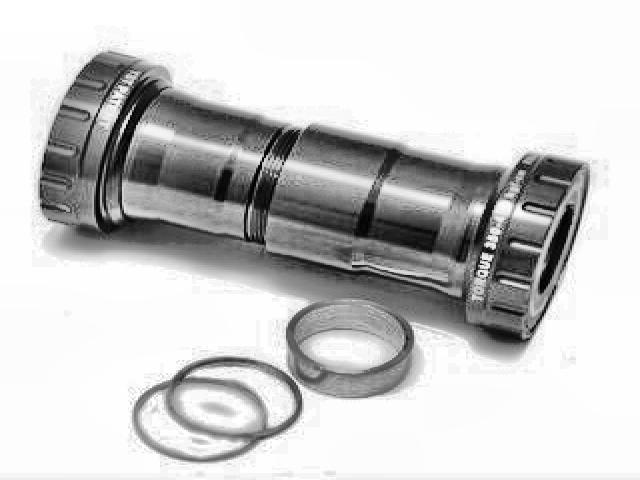bottom_bracket: (34, 48, 596, 347)
